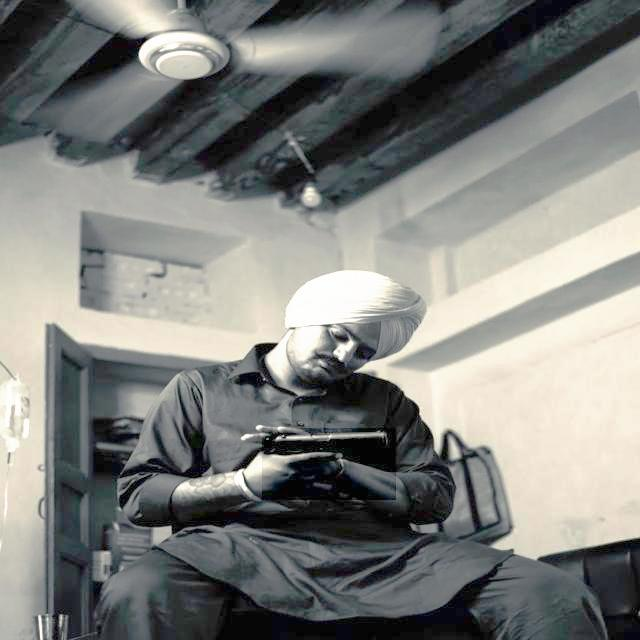Gun: (251, 402, 400, 486)
